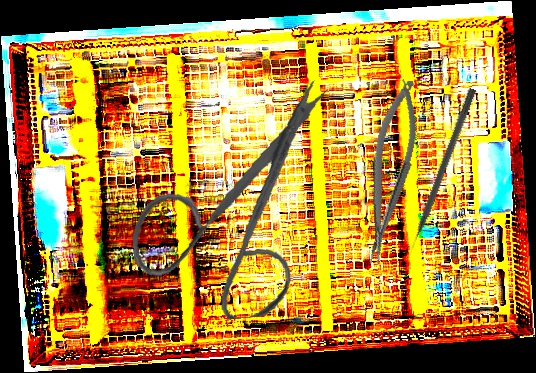Iris Scissors: (118, 79, 351, 329)
Needle Holder: (348, 76, 431, 268)
Pusher: (403, 87, 477, 259)
